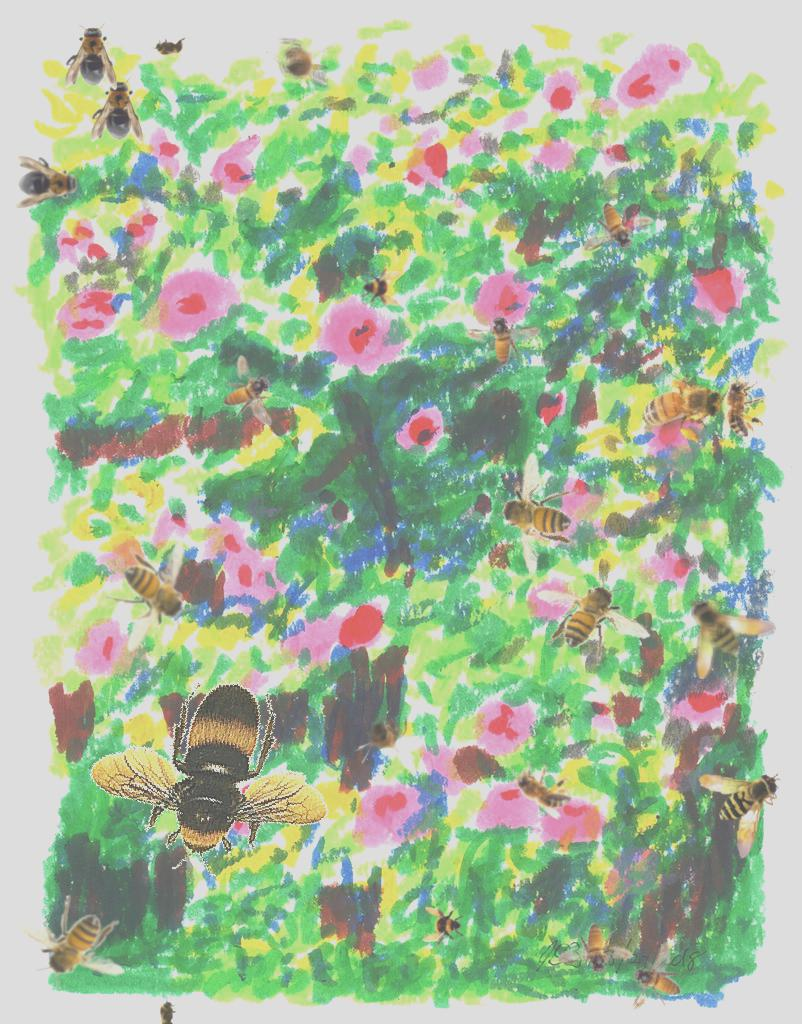Bee: (72, 657, 338, 902), (469, 440, 604, 582), (534, 567, 653, 671), (625, 358, 737, 453), (104, 541, 198, 652), (14, 895, 125, 989), (692, 766, 782, 862), (611, 940, 699, 1024), (689, 597, 777, 679), (457, 302, 543, 375), (556, 914, 640, 987), (500, 751, 580, 822), (354, 702, 415, 772), (266, 32, 336, 93), (716, 369, 768, 440), (583, 202, 654, 252), (223, 355, 273, 426), (91, 76, 143, 144), (14, 156, 82, 208), (65, 22, 117, 90), (358, 264, 402, 308), (422, 905, 466, 949), (149, 36, 189, 58), (157, 995, 179, 1024)
